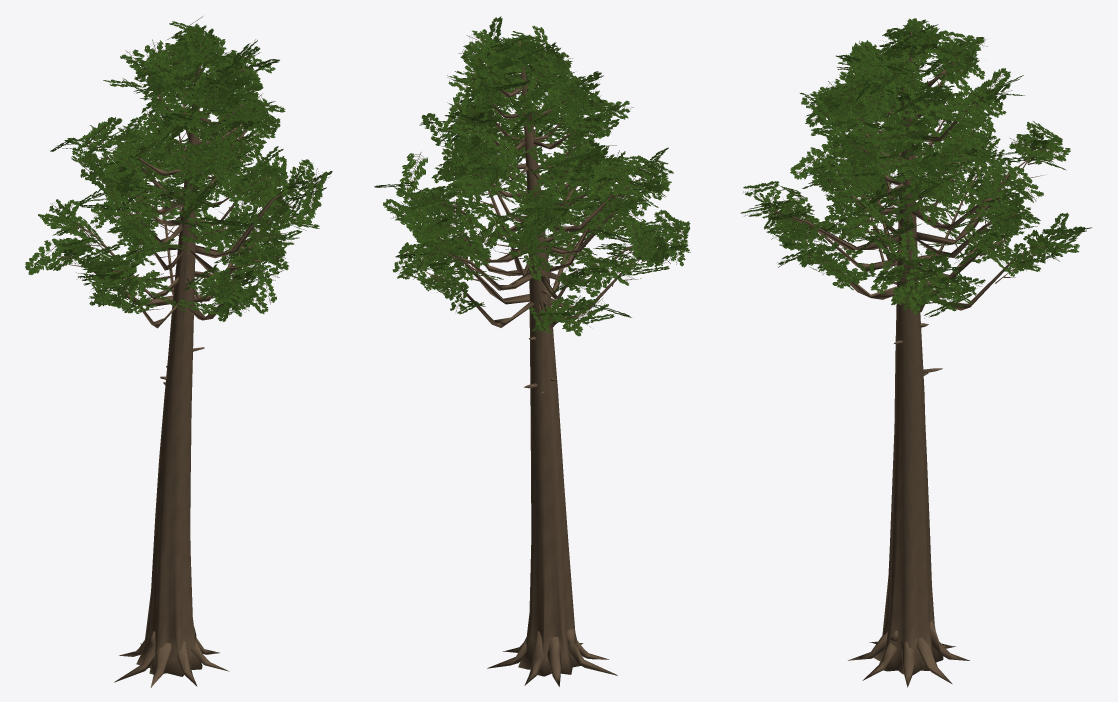
Rendered from GF2_Tree_B_Leaning_LOD2.fbx.
3 views of the same model, side by side, from view 1: azimuth 30°, elevation 25°; view 2: azimuth 150°, elevation 25°; view 3: azimuth 270°, elevation 25° (orthographic). The views are drawn at different scales.
Parts seen in each view (by area): view 1: GF2_Tree_B_Leaning_LOD2; view 2: GF2_Tree_B_Leaning_LOD2; view 3: GF2_Tree_B_Leaning_LOD2.
Part boxes in pixels (x1,y1,x2,y2): GF2_Tree_B_Leaning_LOD2: (25,16,332,687); GF2_Tree_B_Leaning_LOD2: (374,16,690,686); GF2_Tree_B_Leaning_LOD2: (740,18,1092,687).
Size of the model in its own units: 51.31 by 107 by 54.47.
